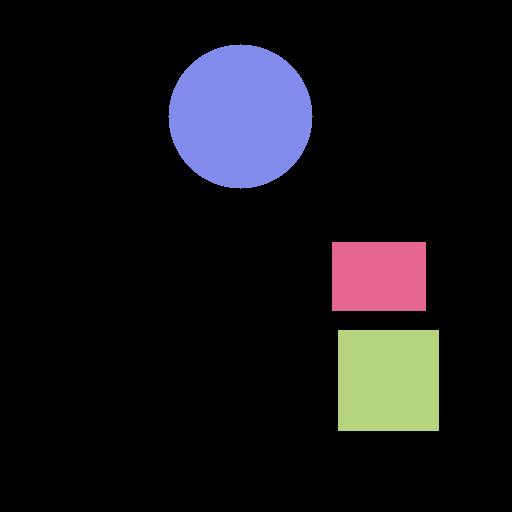circle: (168, 44, 312, 188)
rectangle: (332, 242, 425, 310)
square: (338, 330, 438, 430)
